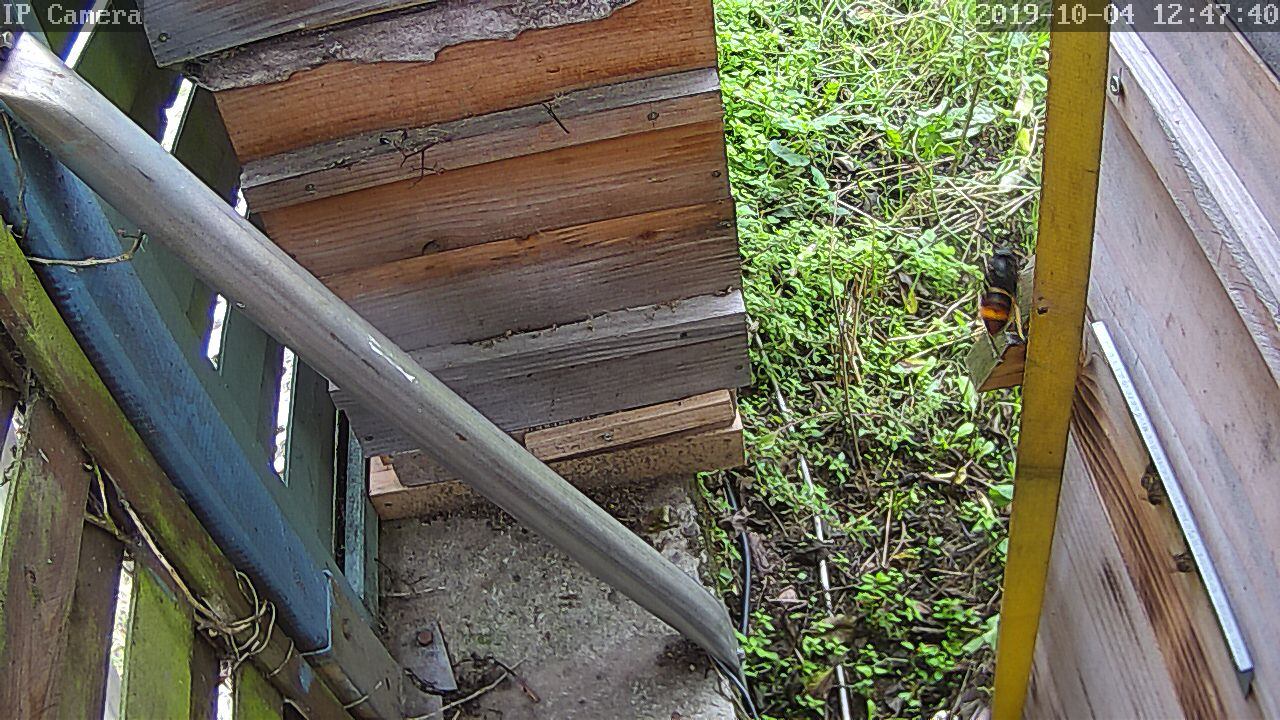bee: (1137, 461, 1171, 505), (1162, 540, 1199, 576)
hornet: (980, 239, 1027, 343)
